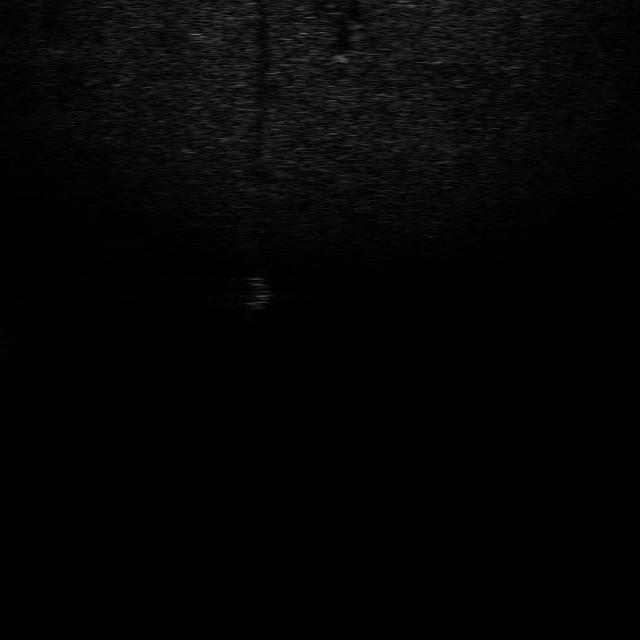human body: (232, 273, 276, 324)
